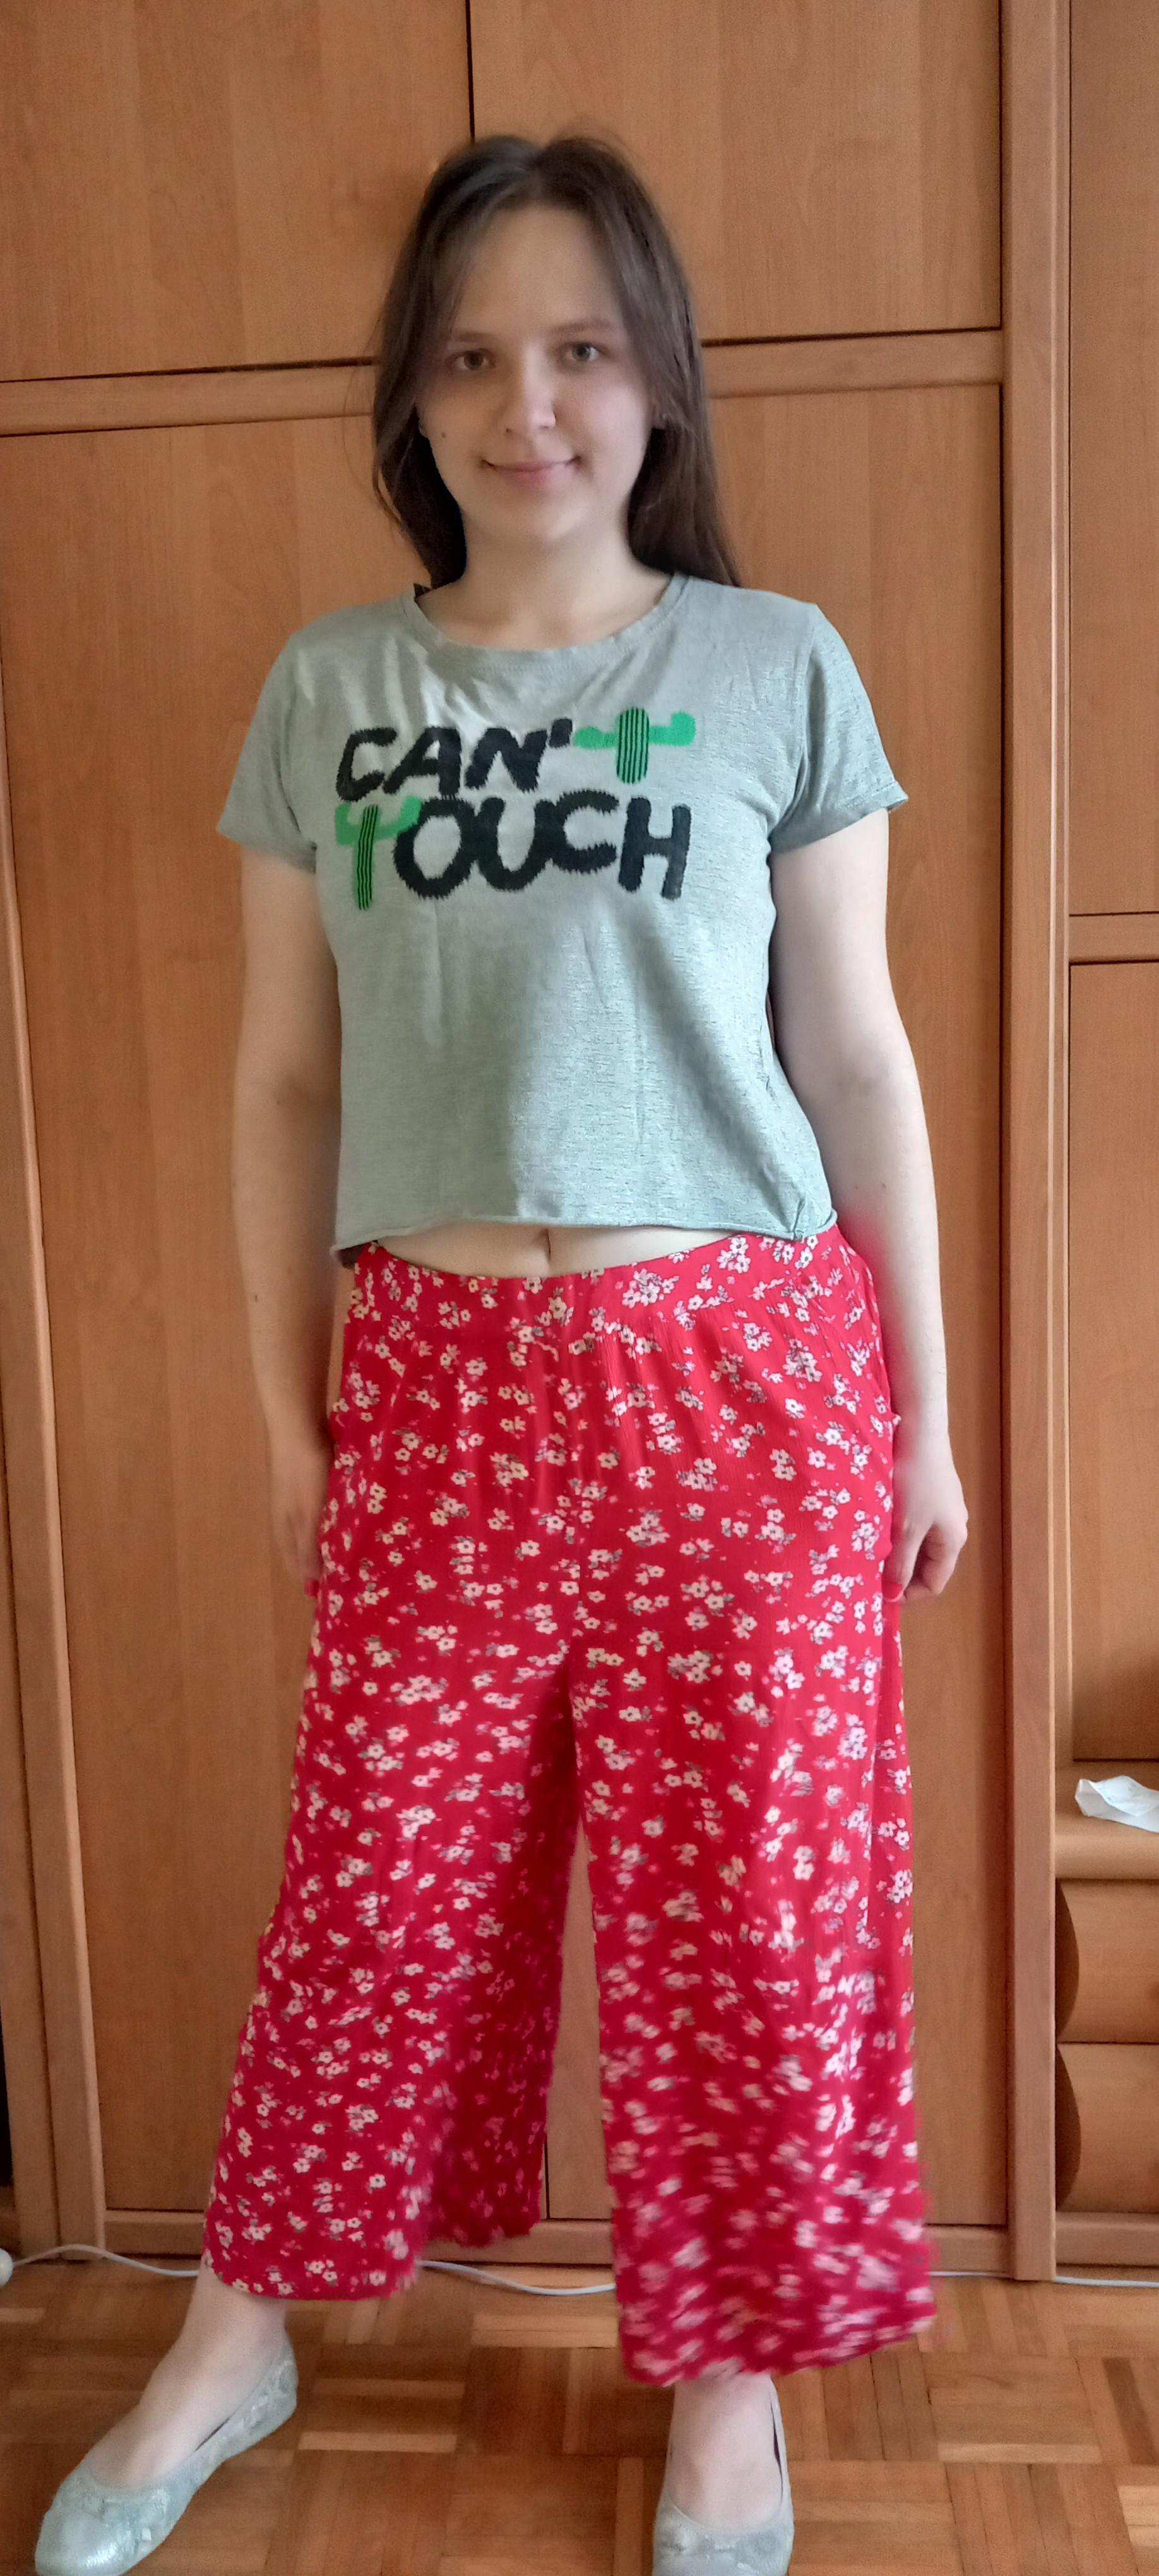Tshirt: (218, 573, 909, 1263)
pants: (204, 1222, 937, 2394)
